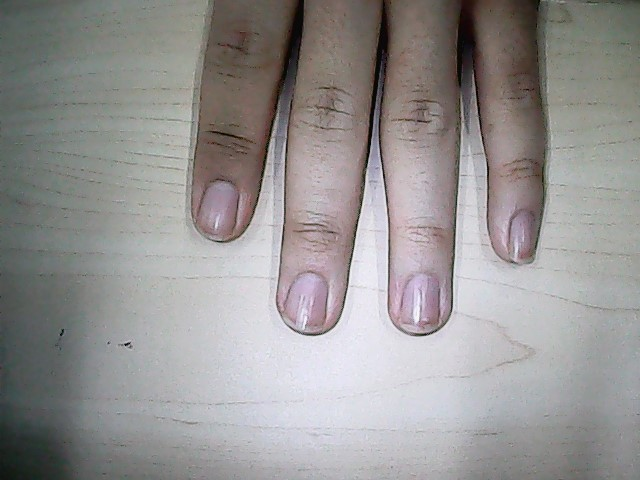nail: (401, 276, 440, 334), (199, 185, 236, 244), (291, 274, 325, 335), (512, 213, 534, 265)
